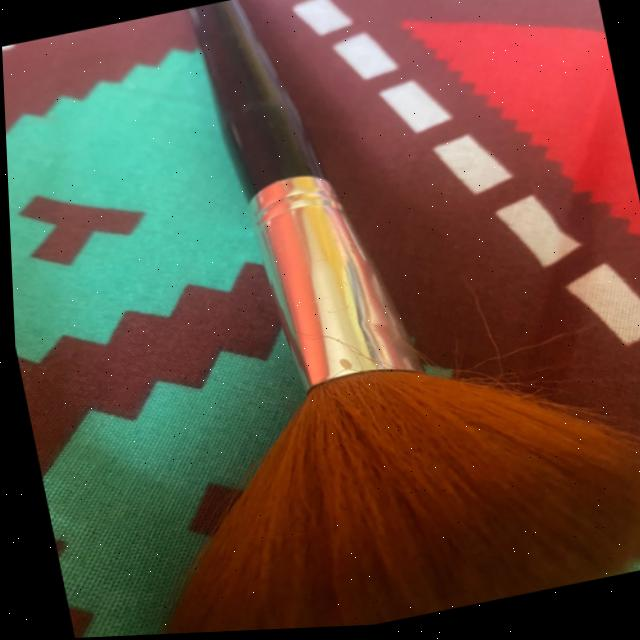brush: (50, 0, 640, 638), (105, 268, 640, 637)
